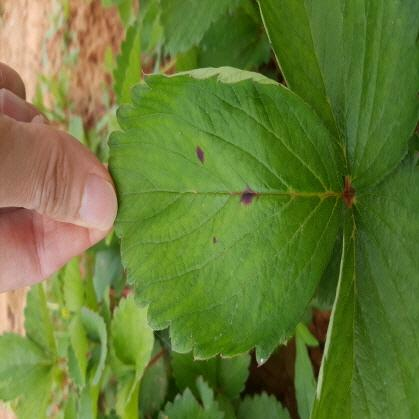Leaf Spot: (105, 66, 345, 368)
